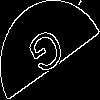G: (25, 25, 71, 85)
